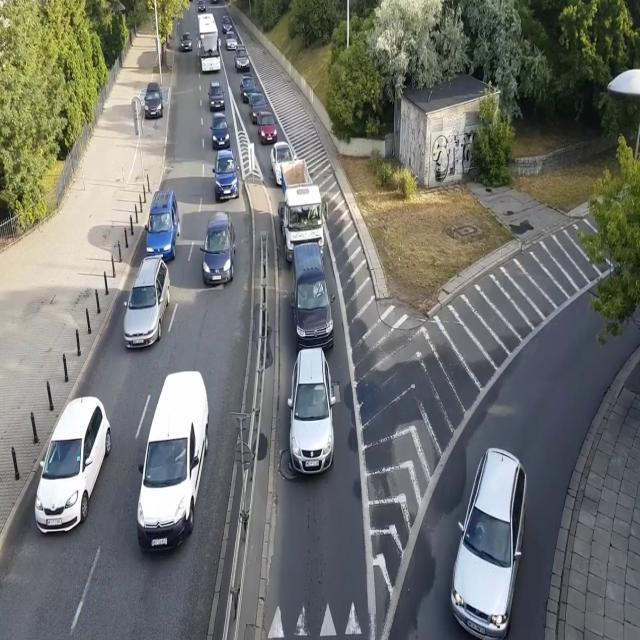bus: (198, 12, 222, 74)
car: (447, 446, 526, 640), (34, 393, 114, 536), (286, 347, 336, 473), (122, 255, 170, 351), (200, 210, 238, 286), (213, 148, 239, 200), (270, 141, 297, 186), (210, 110, 230, 148), (144, 82, 164, 118), (248, 91, 268, 123), (258, 112, 278, 143), (239, 74, 258, 101), (208, 80, 225, 110), (234, 44, 250, 72), (224, 29, 239, 50), (180, 31, 193, 52), (220, 14, 232, 35), (197, 0, 206, 13)
truck: (278, 159, 329, 263)
van: (135, 371, 210, 554), (290, 246, 336, 352), (146, 189, 179, 263)
